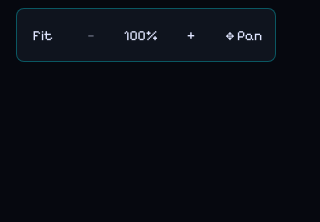
Test: PixelOffice engine lifecycle and furniture preview status › shares native editor pinch with zoom buttons and Fit through the real engine
Click the button named "Zoom in": (191, 35) [169, 13, 213, 57]
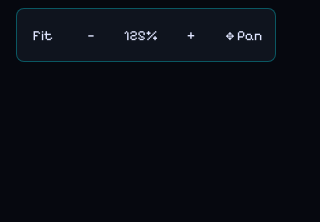
Press the mouse on the drawing: (146, 130) [34, 55, 258, 205]
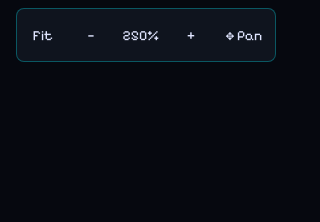
Now the text titled "Office zoom relative to Fit" reads "250%", box [122, 26, 159, 44]
Click the button with aria-label "Fit office": (43, 35) [21, 13, 65, 57]
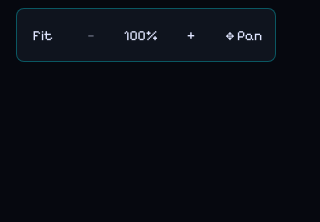
Now the text titled "Office zoom relative to Fit" reads "100%", box [124, 26, 158, 44]
